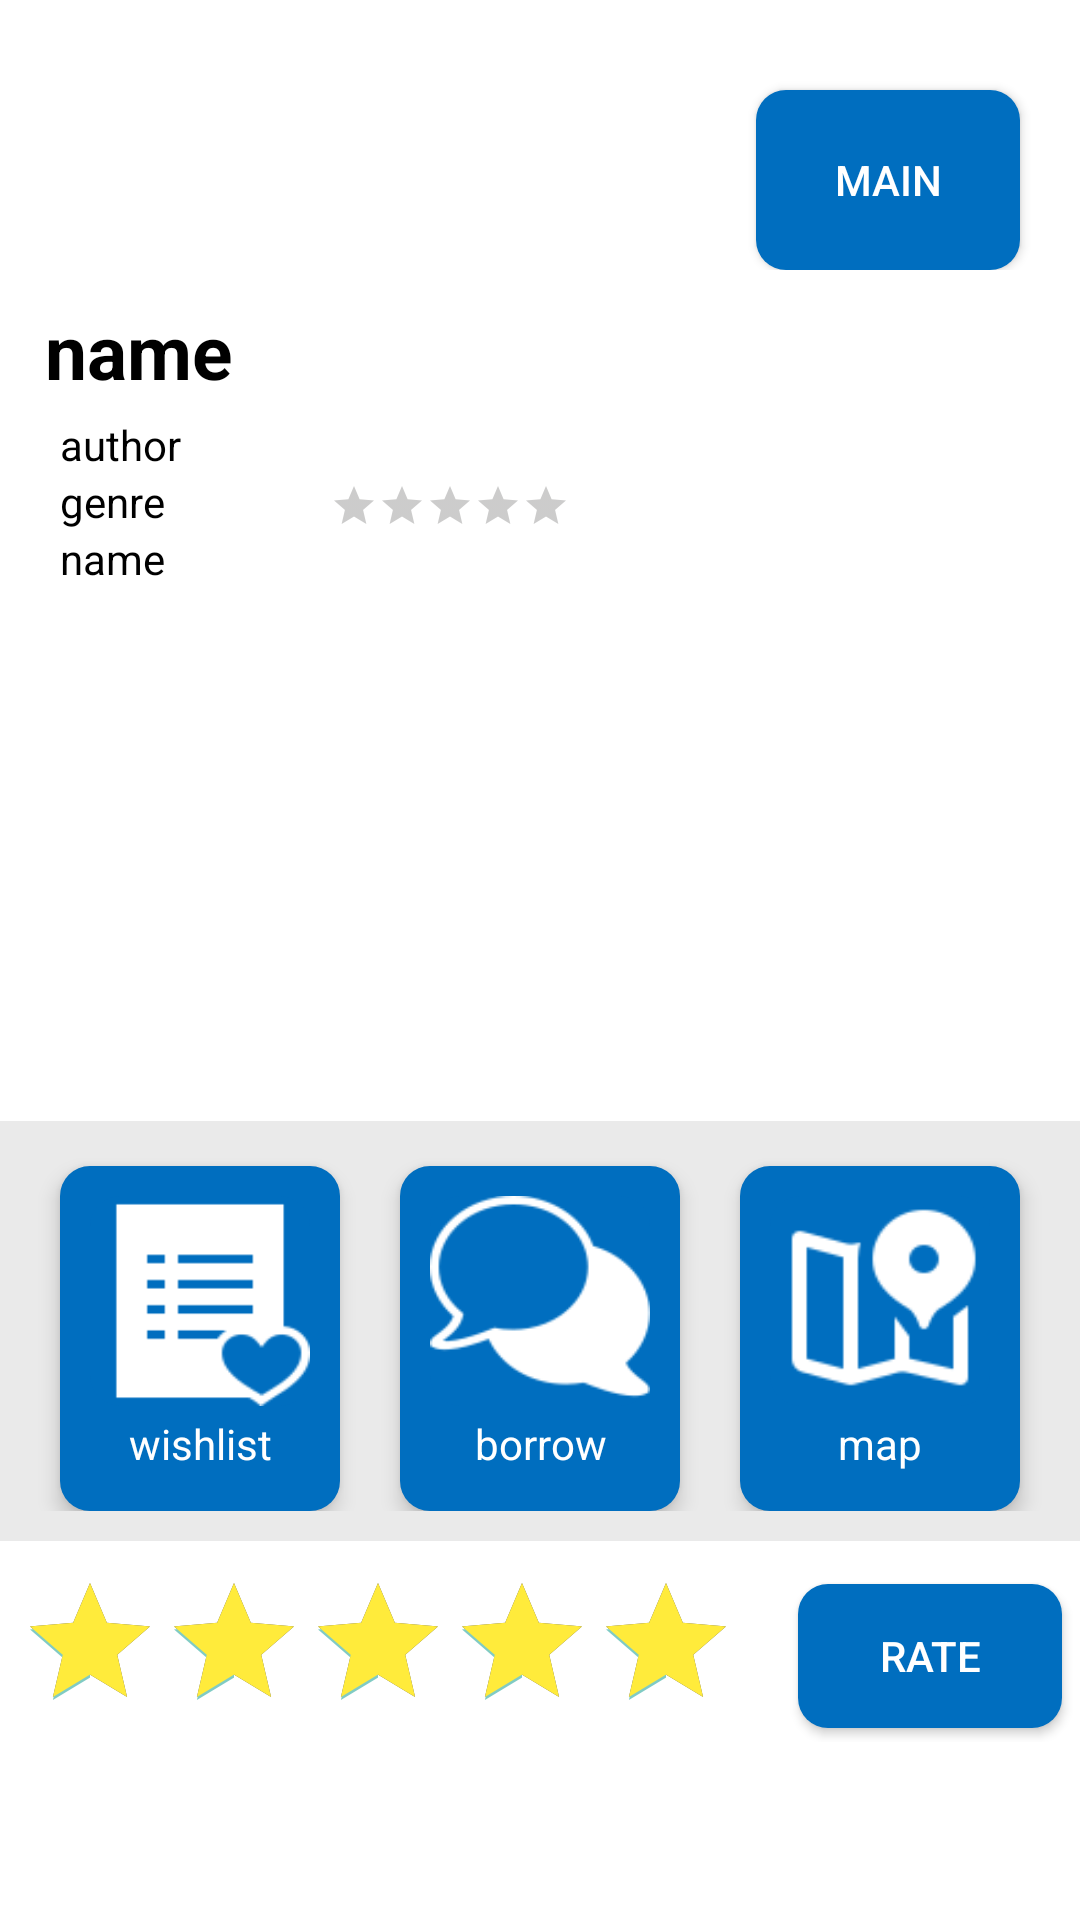

Screen size 1080×1920. Icon name, then its center in pixels as [x,y]:
iconchat: [540,1296]
